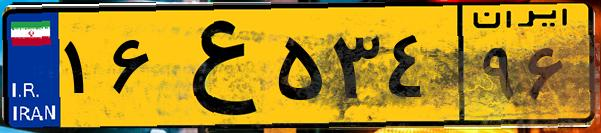1: (57, 26, 110, 100)
3: (330, 28, 385, 110)
4: (385, 28, 445, 110)
5: (270, 28, 330, 110)
6: (525, 38, 570, 115), (110, 28, 158, 98)
9: (475, 38, 525, 113)
ع: (158, 12, 270, 120)
